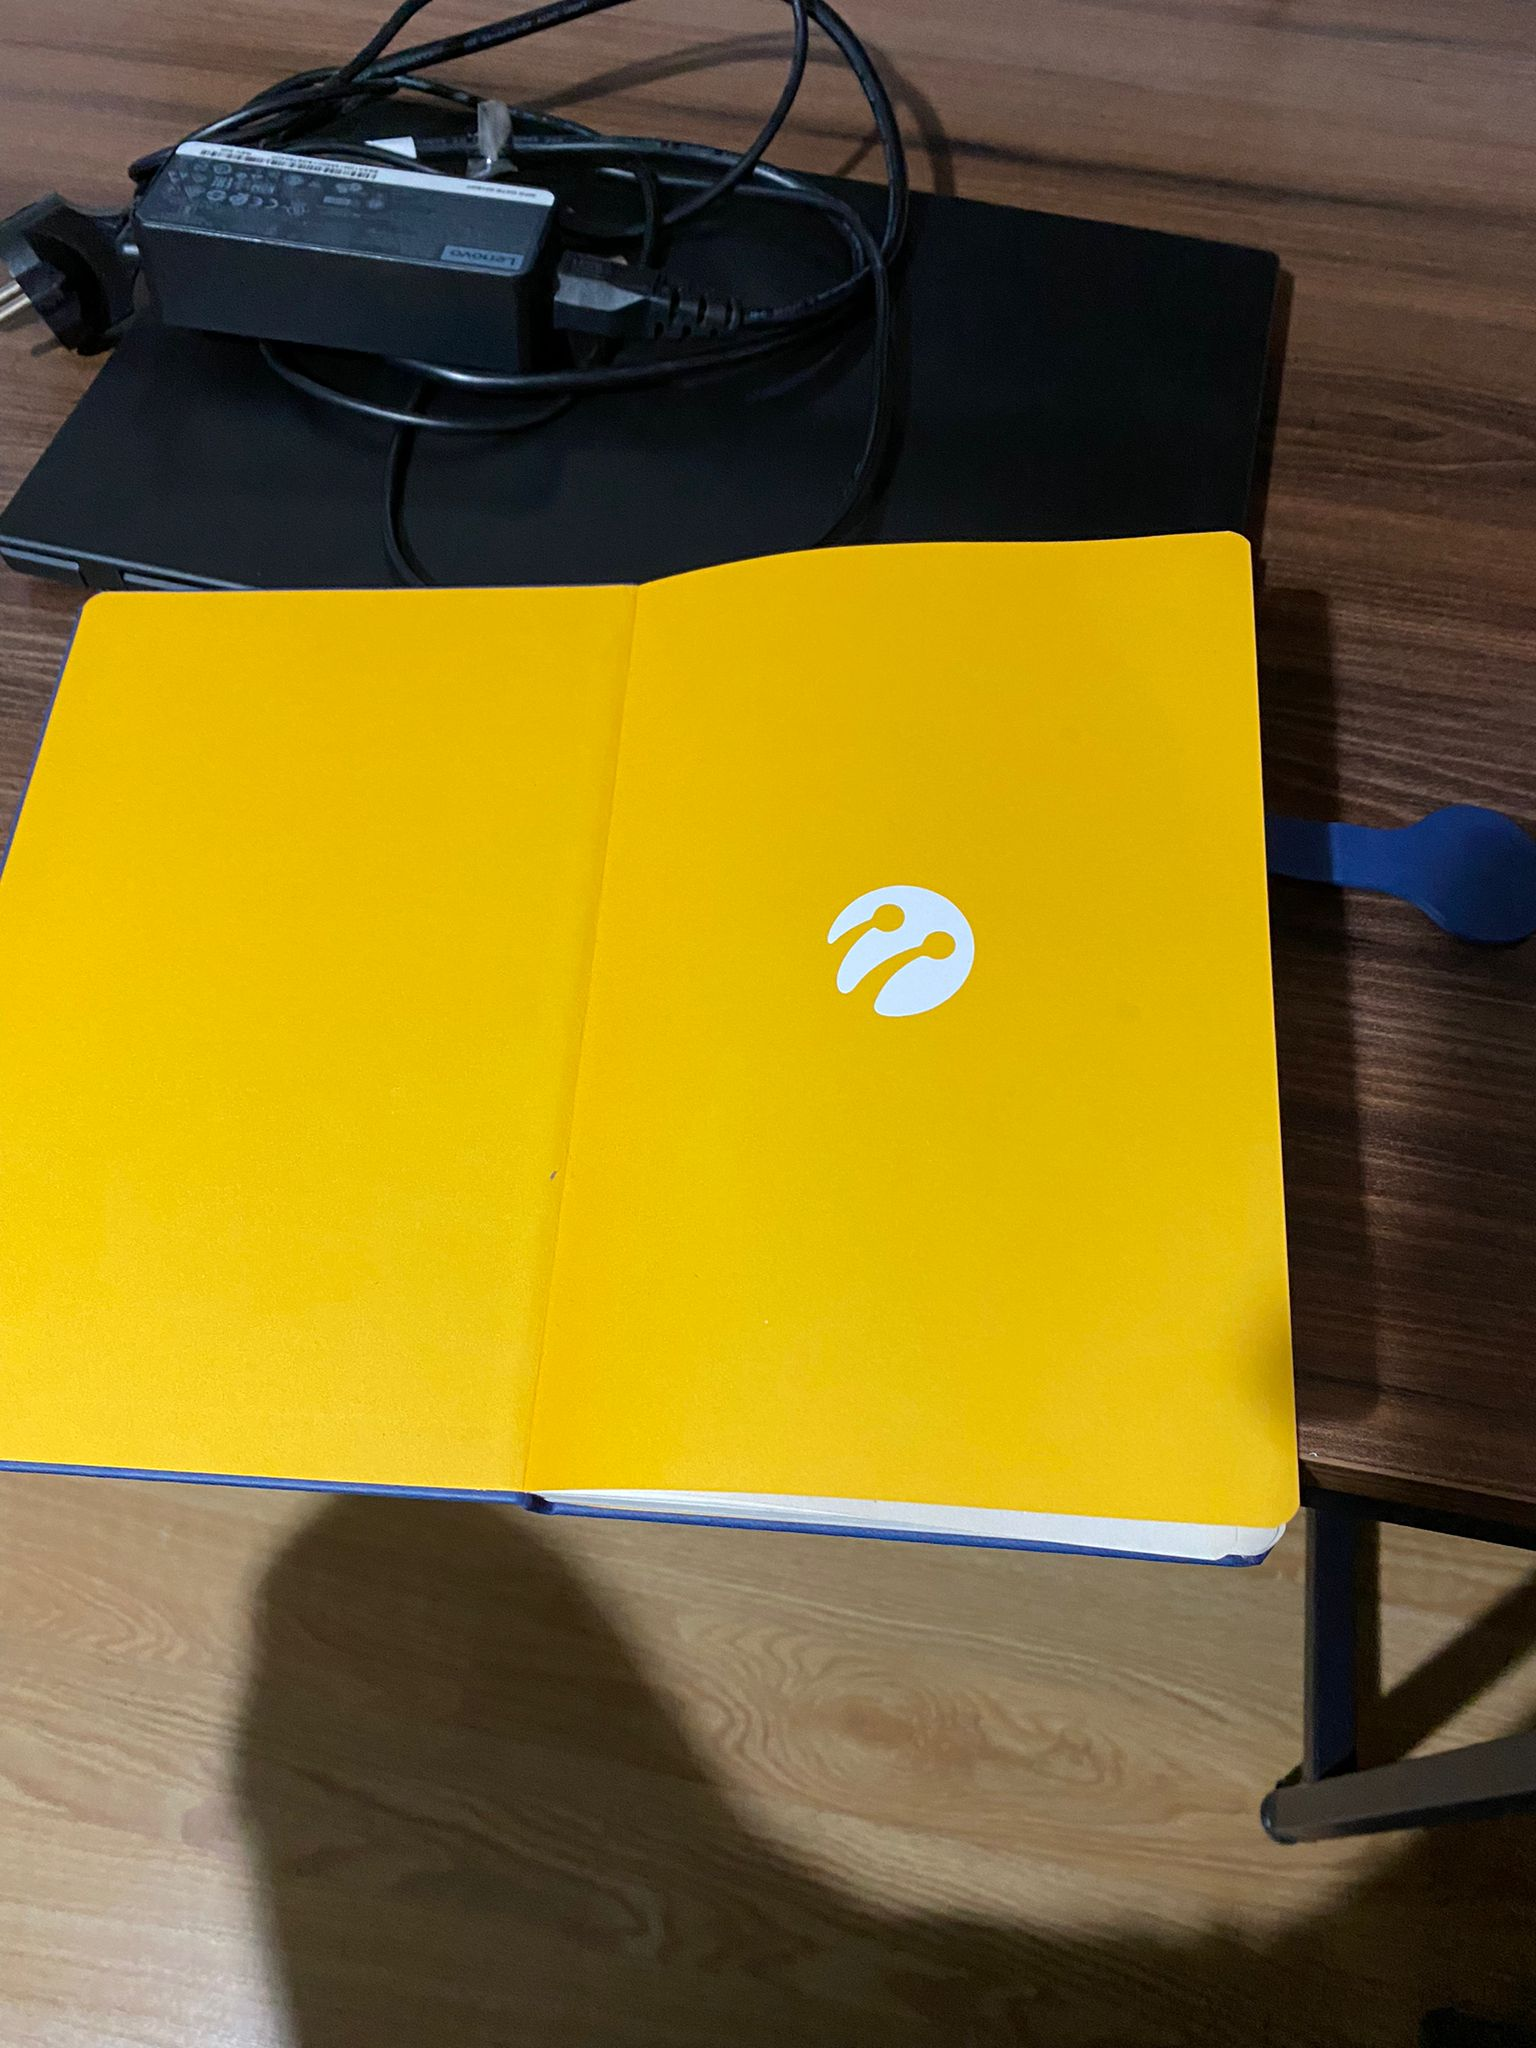turkcell: (816, 868, 991, 1030)
